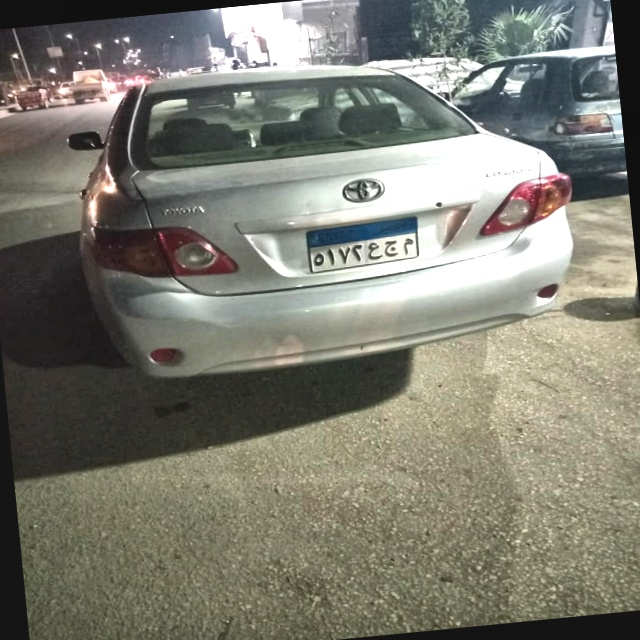License Plate: (304, 214, 426, 276)
